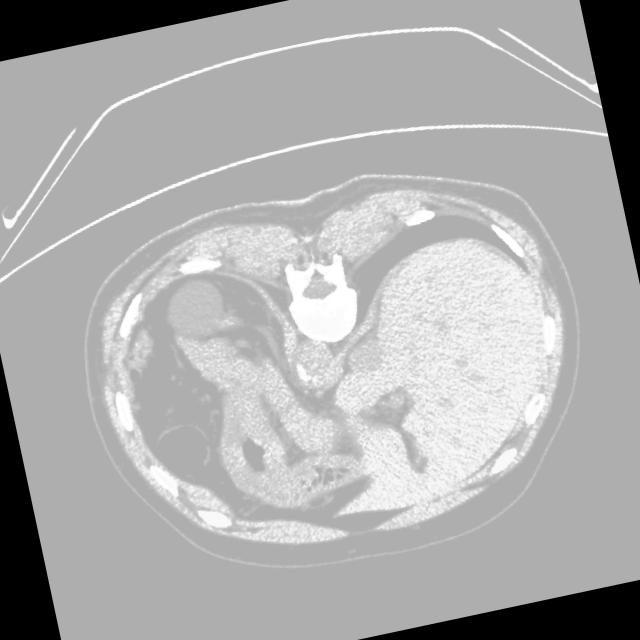cysts: (55, 135, 619, 604)
